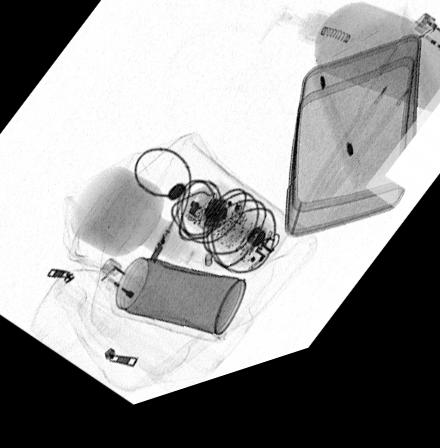Lighter: (92, 264, 167, 331), (405, 38, 440, 86)
